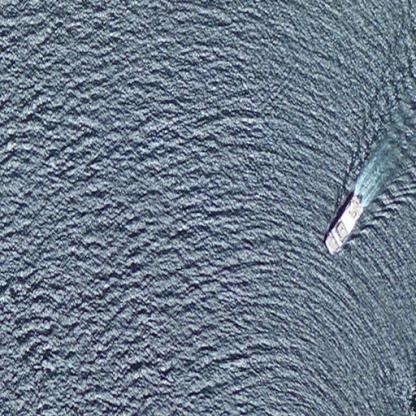ship: (319, 188, 366, 254)
